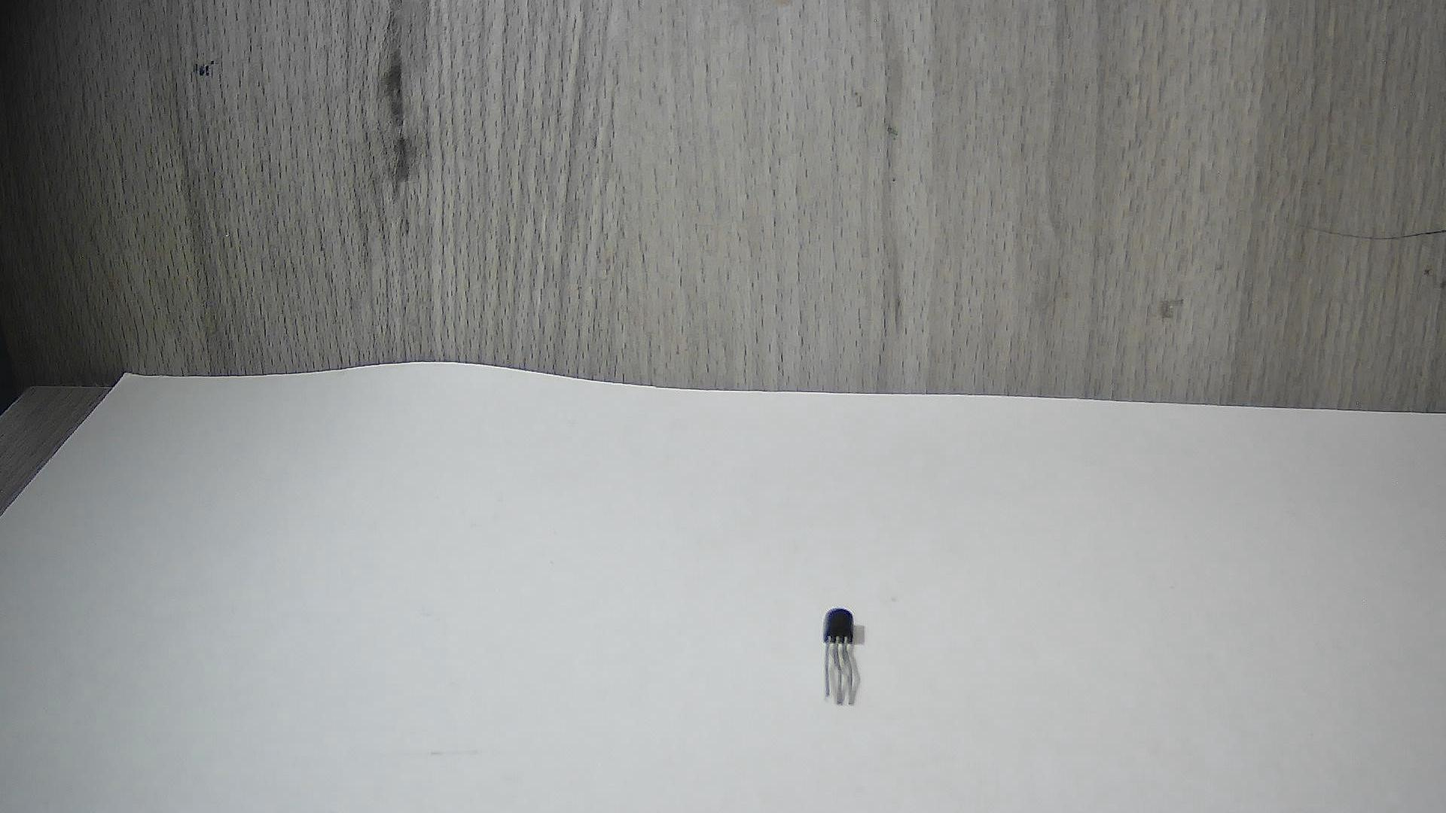Transistor: (796, 590, 904, 720)
